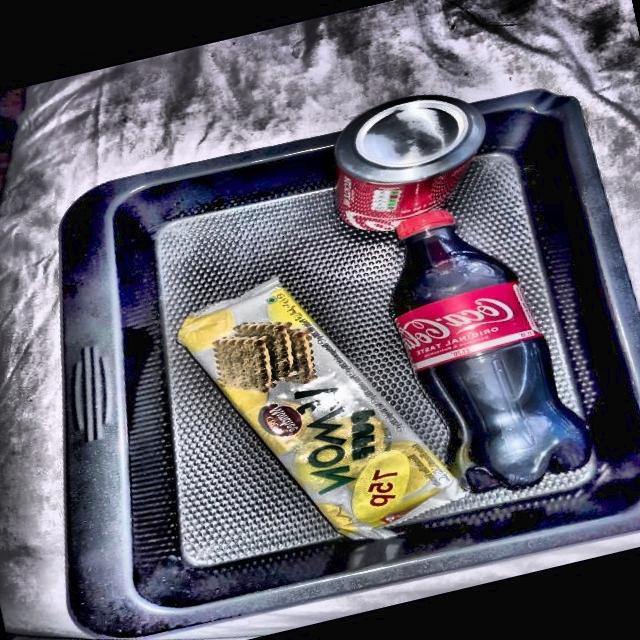coke-bottle: (384, 212, 592, 488)
coke-can: (328, 93, 488, 244)
lemon puff: (178, 279, 452, 543)
